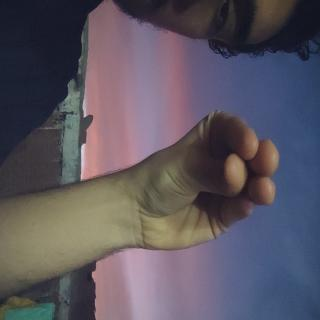HA: (80, 49, 198, 250)
